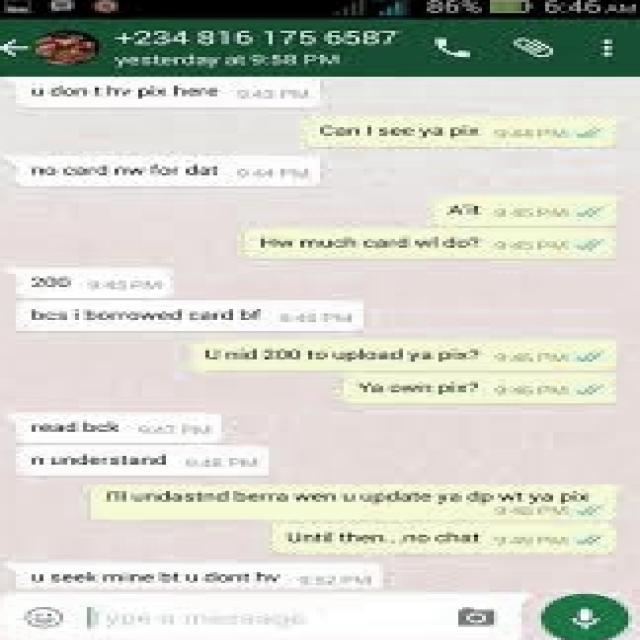scam: (20, 302, 364, 339), (22, 560, 396, 590), (18, 444, 280, 478), (16, 157, 332, 185), (13, 75, 312, 104), (9, 408, 222, 444), (16, 268, 182, 298)
